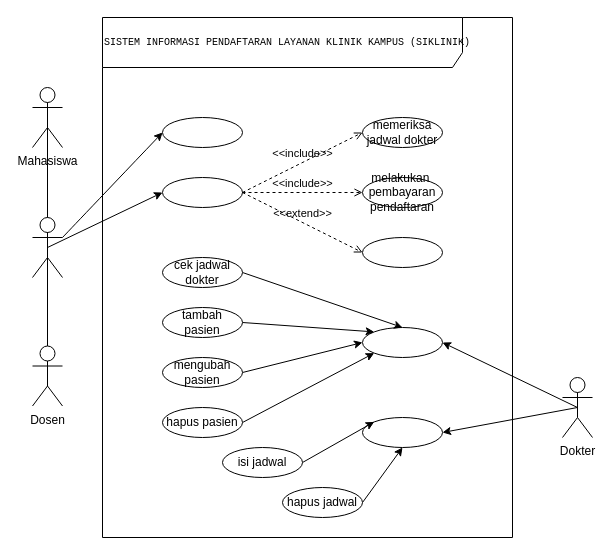
This 612x555 diagram has some shape labels left out. Here are the shapes that lost their labels. From the top down, the centre of each, then its label:
At pixel 202 132: "melihat slot Waktu".
At pixel 202 192: "Melakukan Pendaftaran".
At pixel 47 247: "Pasien".
At pixel 402 252: "menghapus pendaftaran".
At pixel 402 342: "kelola data pasien".
At pixel 402 432: "kelola jadwal dokter".
